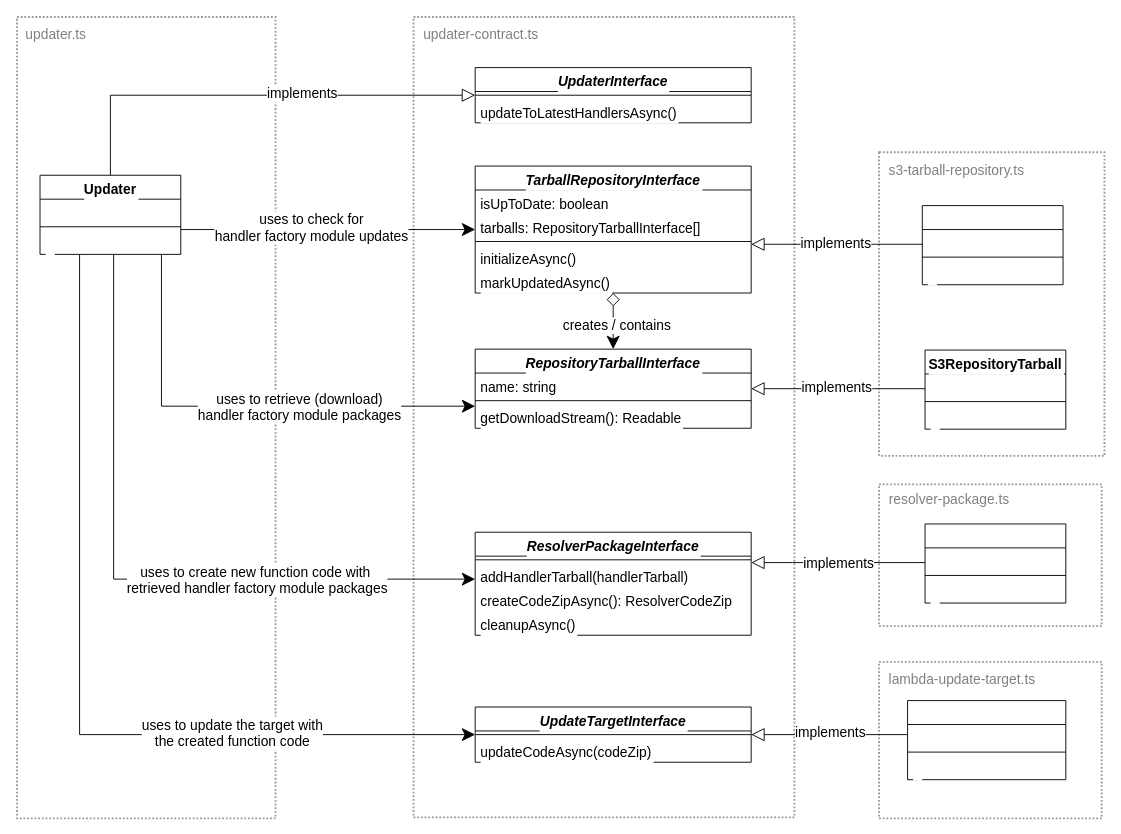
Some shapes in this 1121 by 834 pixel diagram are drawn without their labels. Here are the shapes that lost their labels. From the top down, the centre of each, then its label:
(992,245): S3TarballRepository
(995,563): ResolverPackage
(986,740): LambdaUpdateTarget
